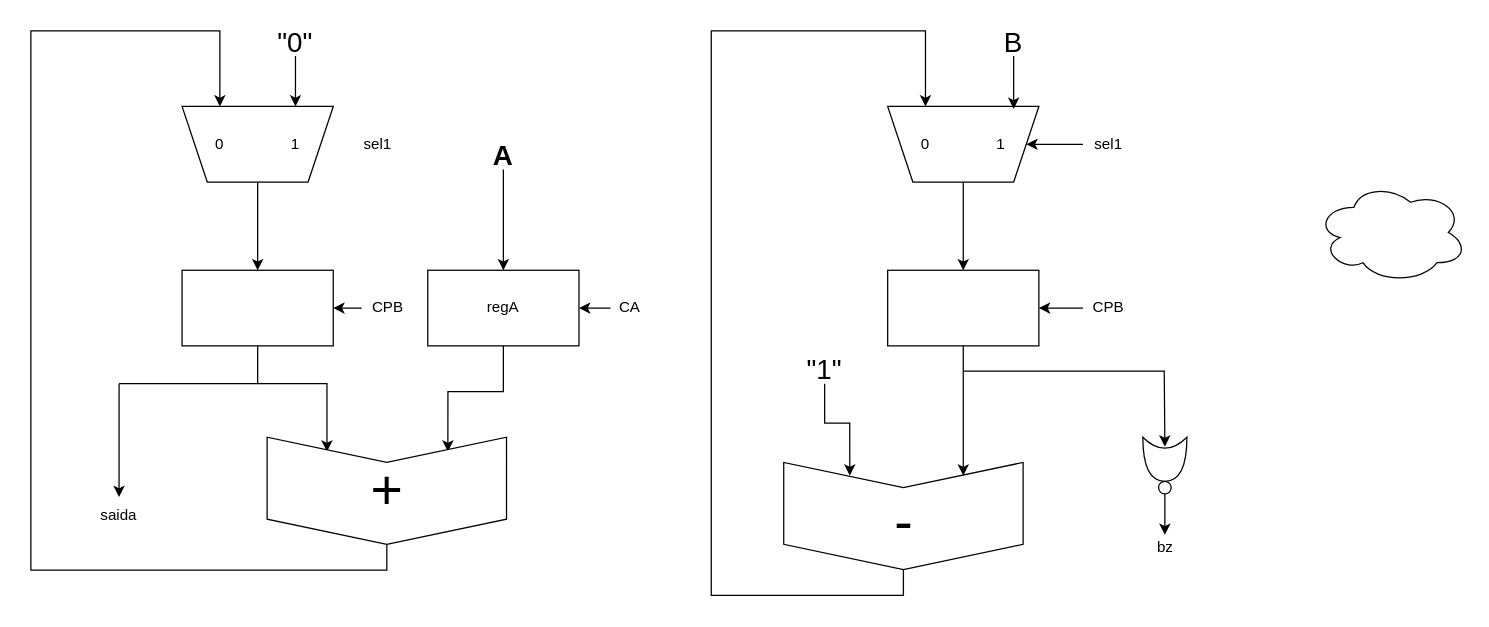
This 1489x627 diagram has some shape labels left out. The shapes that lost their labels are listed below. From the top down, each one's centre as x and y in pixels, then its label:
(x=257, y=307): regP
(x=962, y=307): regB
